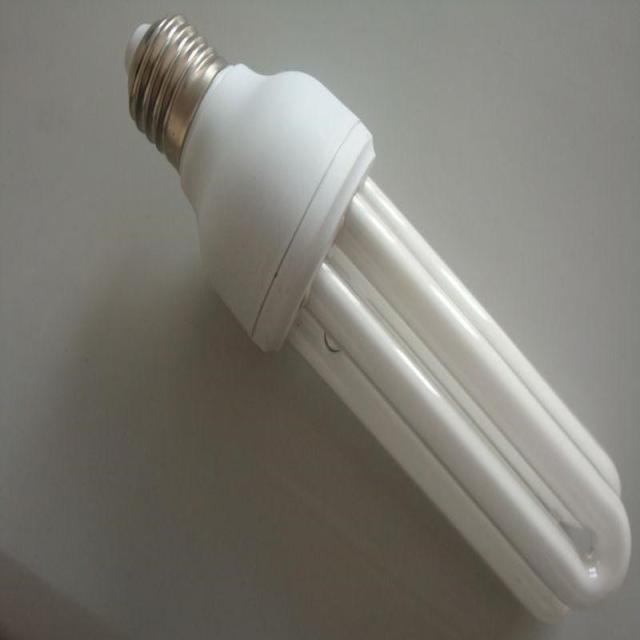non-organik: (120, 8, 638, 624)
